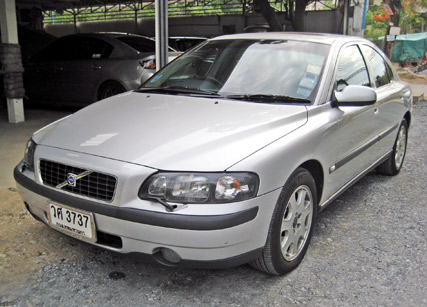sedan: (13, 28, 414, 276)
